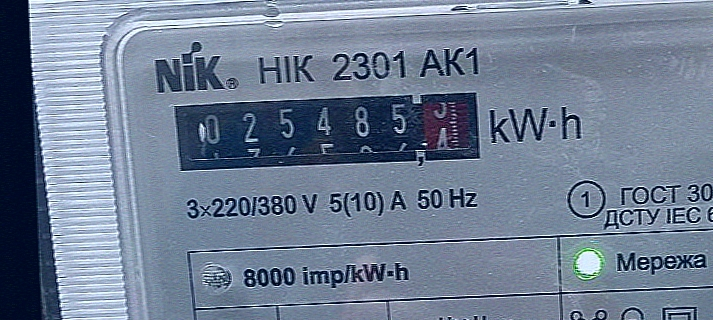0: (201, 108, 224, 144)
2: (240, 107, 262, 143)
4: (313, 101, 335, 136), (433, 122, 453, 151)
5: (388, 98, 411, 136), (276, 102, 298, 138)
8: (352, 99, 374, 138)
screen: (166, 82, 490, 181)
